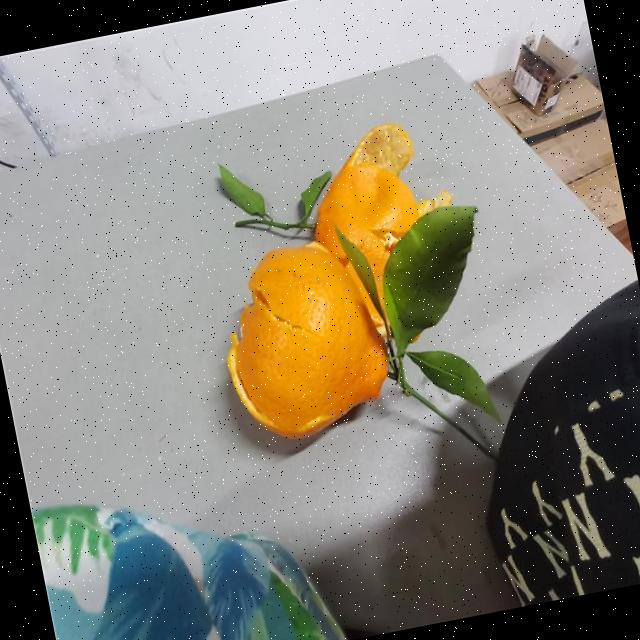orange-peel: (185, 112, 491, 452), (206, 231, 400, 450)
